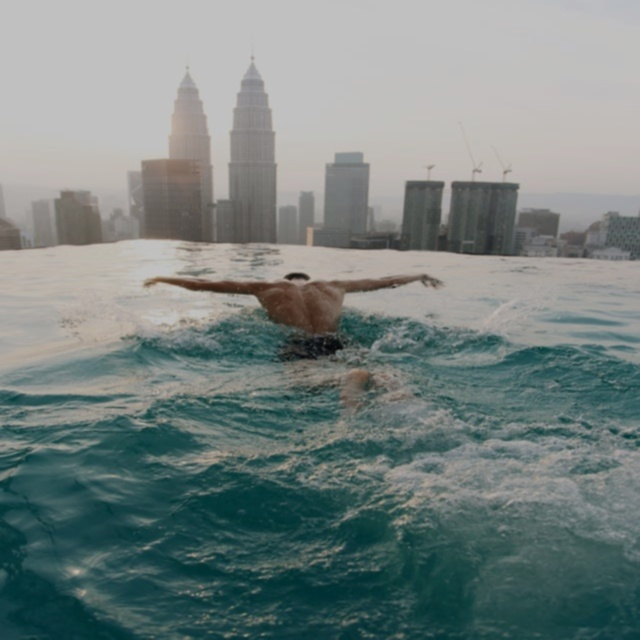foam_scum: (0, 0, 640, 194), (0, 240, 243, 343)
turbid_water: (13, 13, 627, 627), (0, 104, 525, 539)
